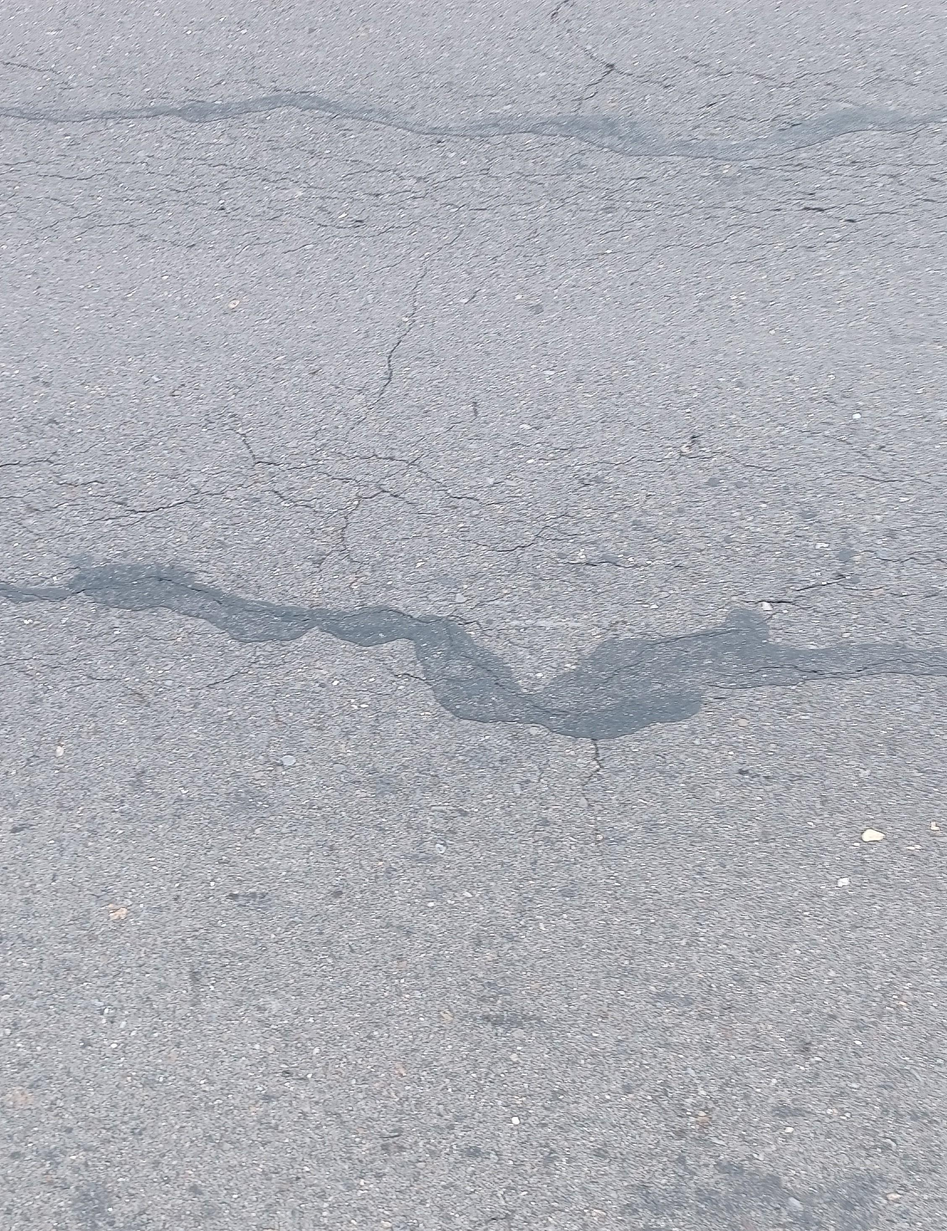GRIETA: (379, 296, 417, 396), (581, 739, 606, 831)
PIEL DE COCODRILO: (0, 57, 947, 263), (13, 424, 947, 629), (0, 629, 117, 703)
